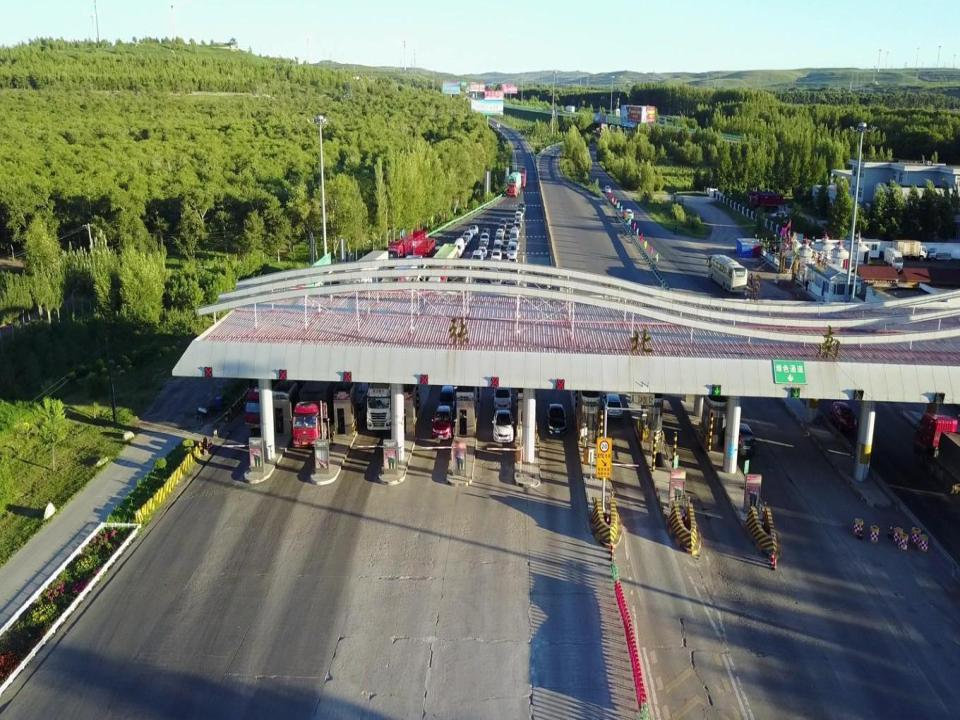bus: (705, 254, 748, 294)
car: (728, 420, 754, 456), (830, 401, 858, 432), (490, 408, 514, 442), (431, 406, 454, 439), (493, 378, 513, 412), (546, 403, 566, 434), (602, 393, 623, 418), (438, 385, 455, 414), (470, 249, 484, 271), (490, 272, 502, 288), (490, 248, 502, 262), (509, 238, 520, 250), (479, 232, 490, 244), (492, 239, 501, 253), (506, 257, 518, 267), (477, 246, 487, 258), (460, 235, 469, 248), (495, 234, 503, 248), (468, 225, 479, 235), (462, 230, 473, 240), (625, 208, 634, 218), (513, 223, 522, 233), (478, 239, 488, 248), (518, 201, 526, 212), (500, 218, 508, 229), (497, 224, 505, 235), (510, 227, 518, 237), (496, 229, 504, 239), (515, 217, 522, 228), (604, 184, 612, 193), (482, 228, 490, 237), (516, 208, 524, 216), (550, 151, 556, 157), (516, 144, 520, 150)
truck: (244, 315, 308, 428), (291, 342, 347, 447), (366, 317, 415, 431), (342, 250, 389, 301), (386, 229, 426, 269), (430, 243, 458, 285), (405, 236, 435, 273), (891, 239, 927, 261), (749, 190, 783, 213), (884, 248, 903, 272), (507, 171, 521, 198), (927, 246, 951, 261), (518, 170, 526, 188), (564, 105, 575, 113)
van: (453, 237, 465, 257), (506, 241, 518, 258), (509, 231, 517, 244), (515, 211, 522, 222)
